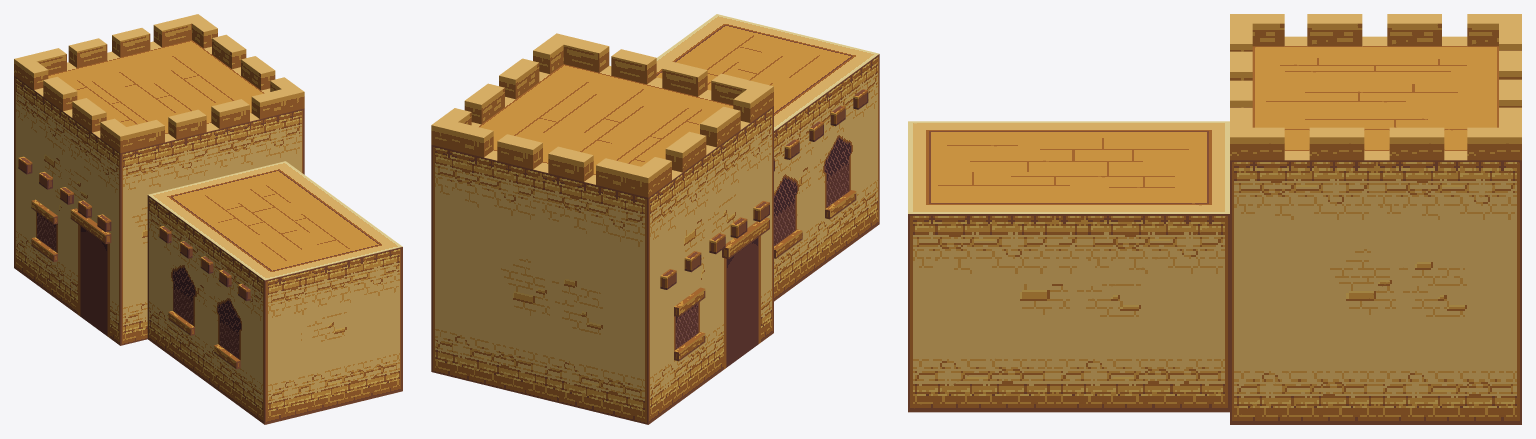
Rendered from house2.gltf.
The picture shows the model from 3 angles, left to right: view 1: azimuth 30°, elevation 25°; view 2: azimuth 150°, elevation 25°; view 3: azimuth 270°, elevation 25°; orthographic projection. The views are drawn at different scales.
Visible parts, largest first — view 1: cube (×19); view 2: cube (×22); view 3: cube (×16).
Boxes of the visible parts, x1=… form: cube (×19): x1=14, y1=14, x2=402, y2=424; cube (×22): x1=431, y1=14, x2=879, y2=424; cube (×16): x1=908, y1=14, x2=1521, y2=424.
Bounding box in the file's own units: 8.25 × 8.69 × 16.81.
1 material, 1 textured.
